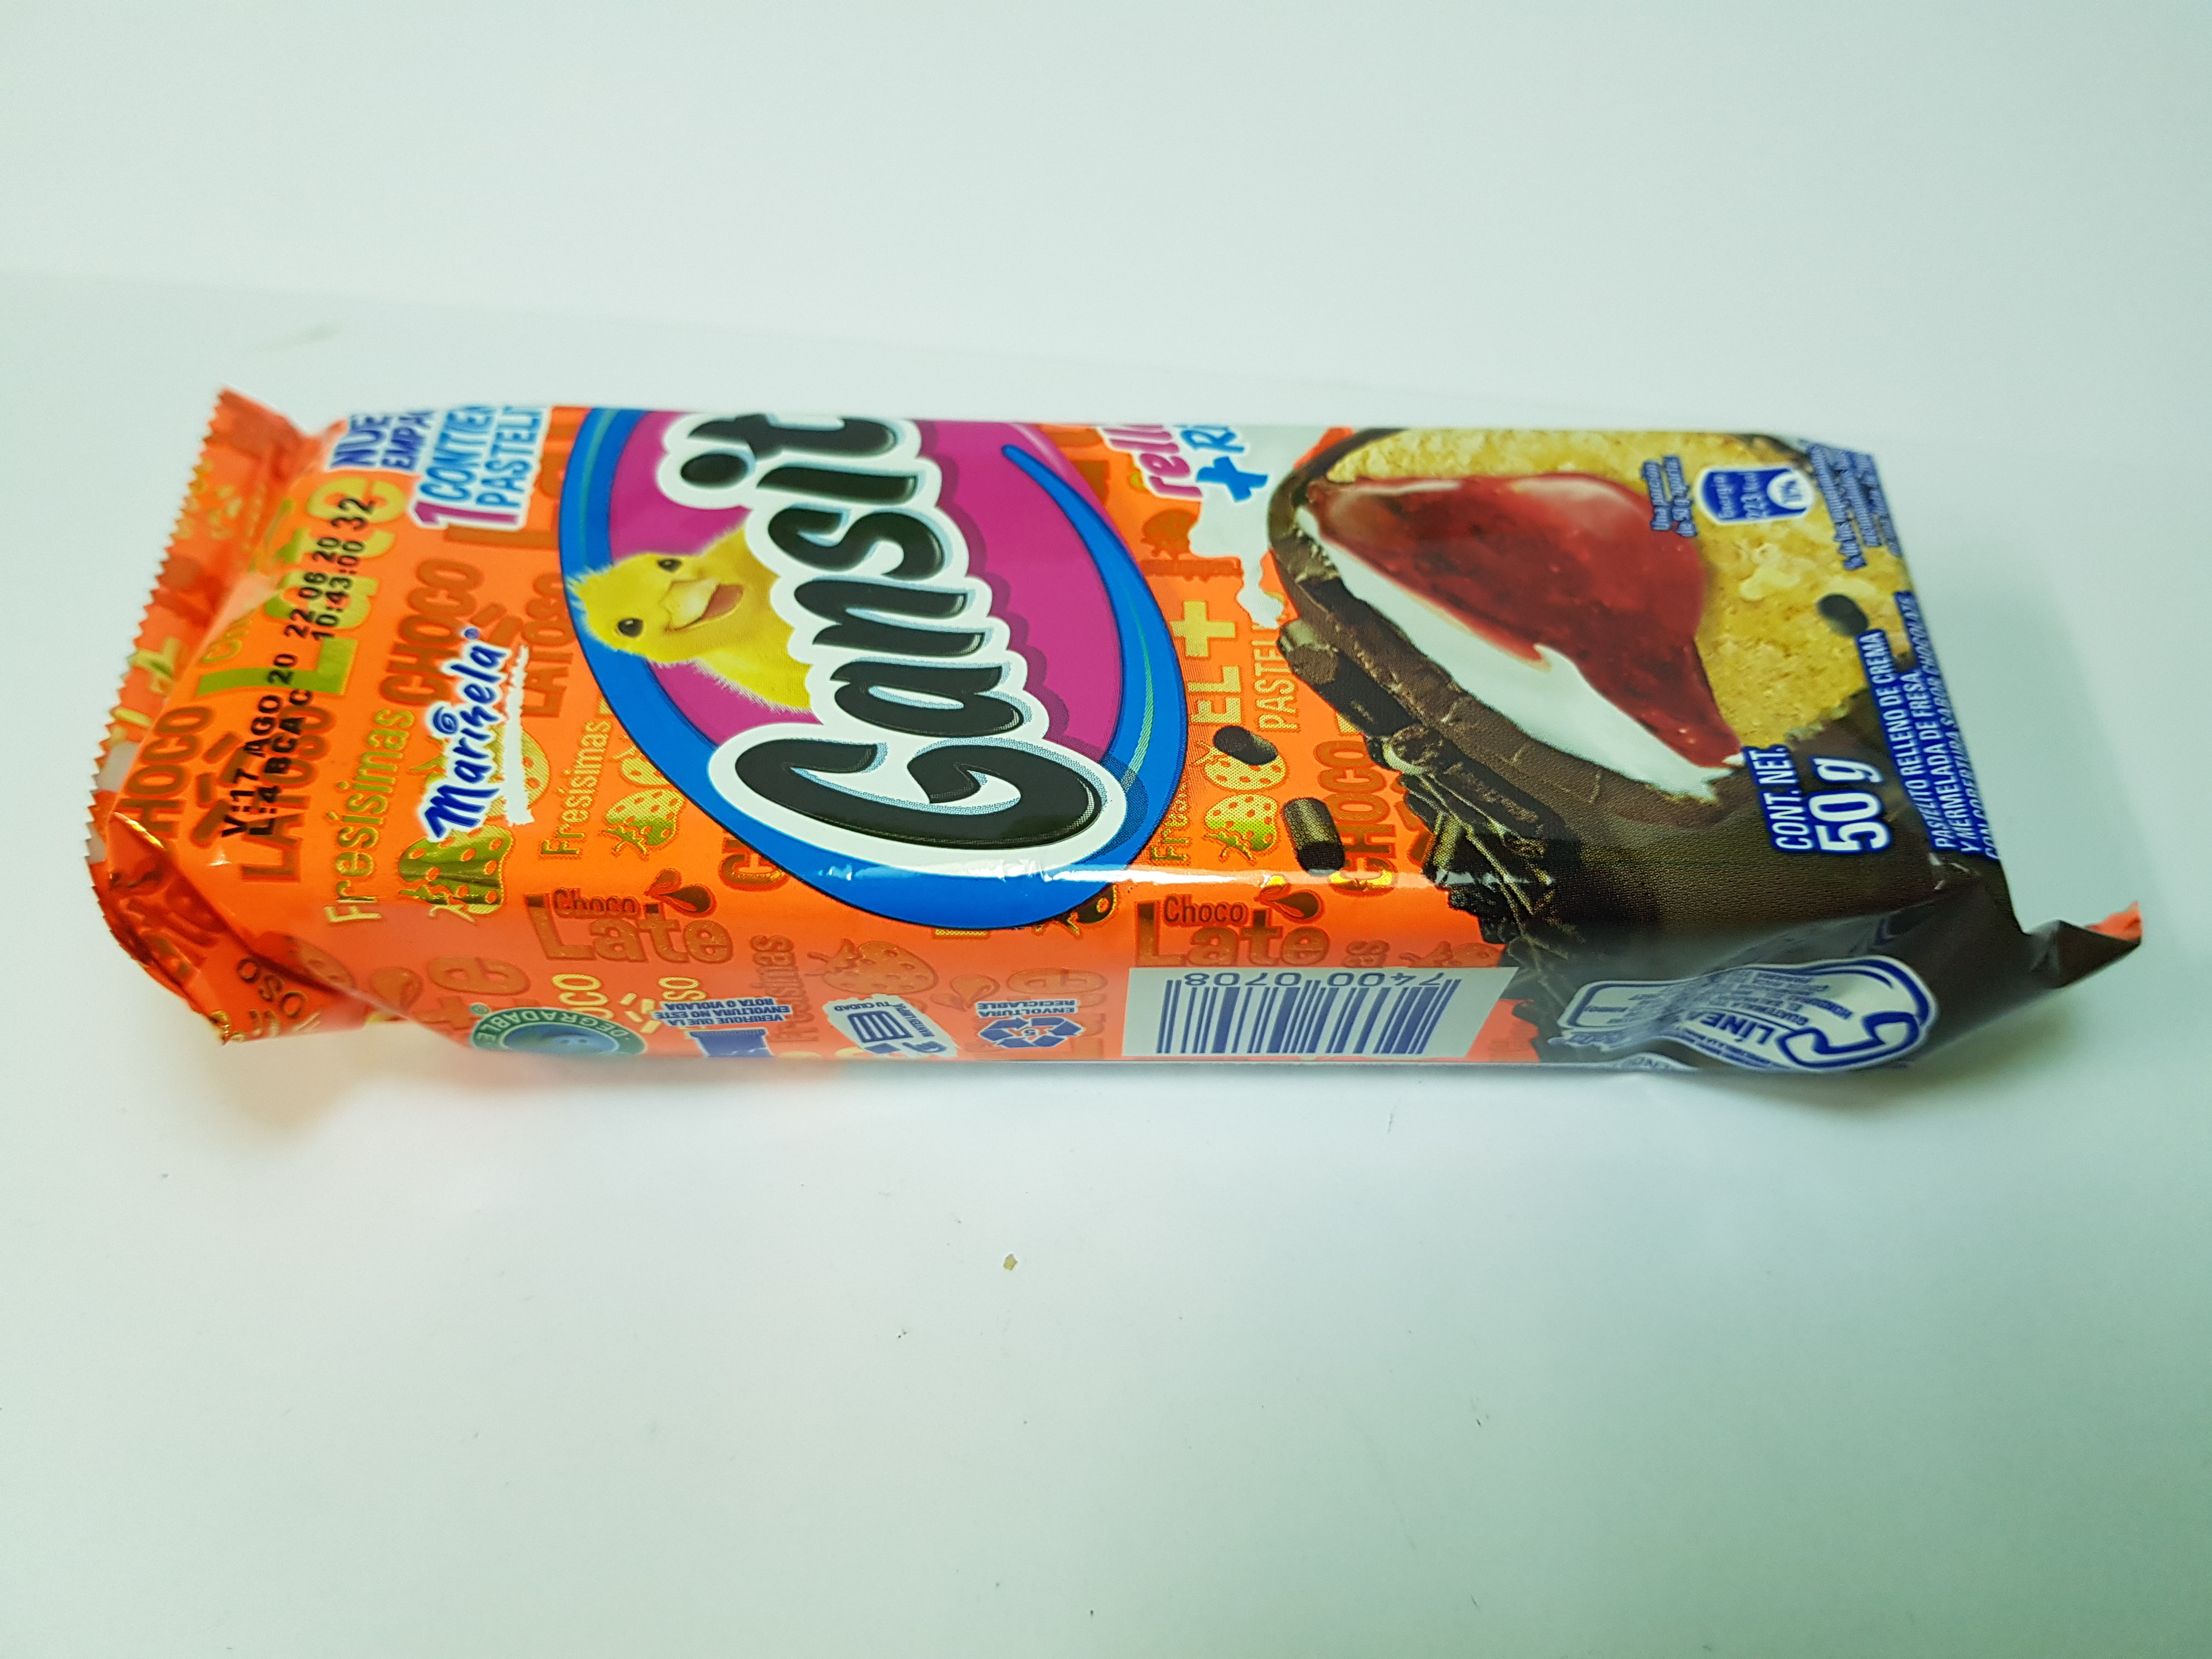gansito: (84, 343, 2141, 1091)
